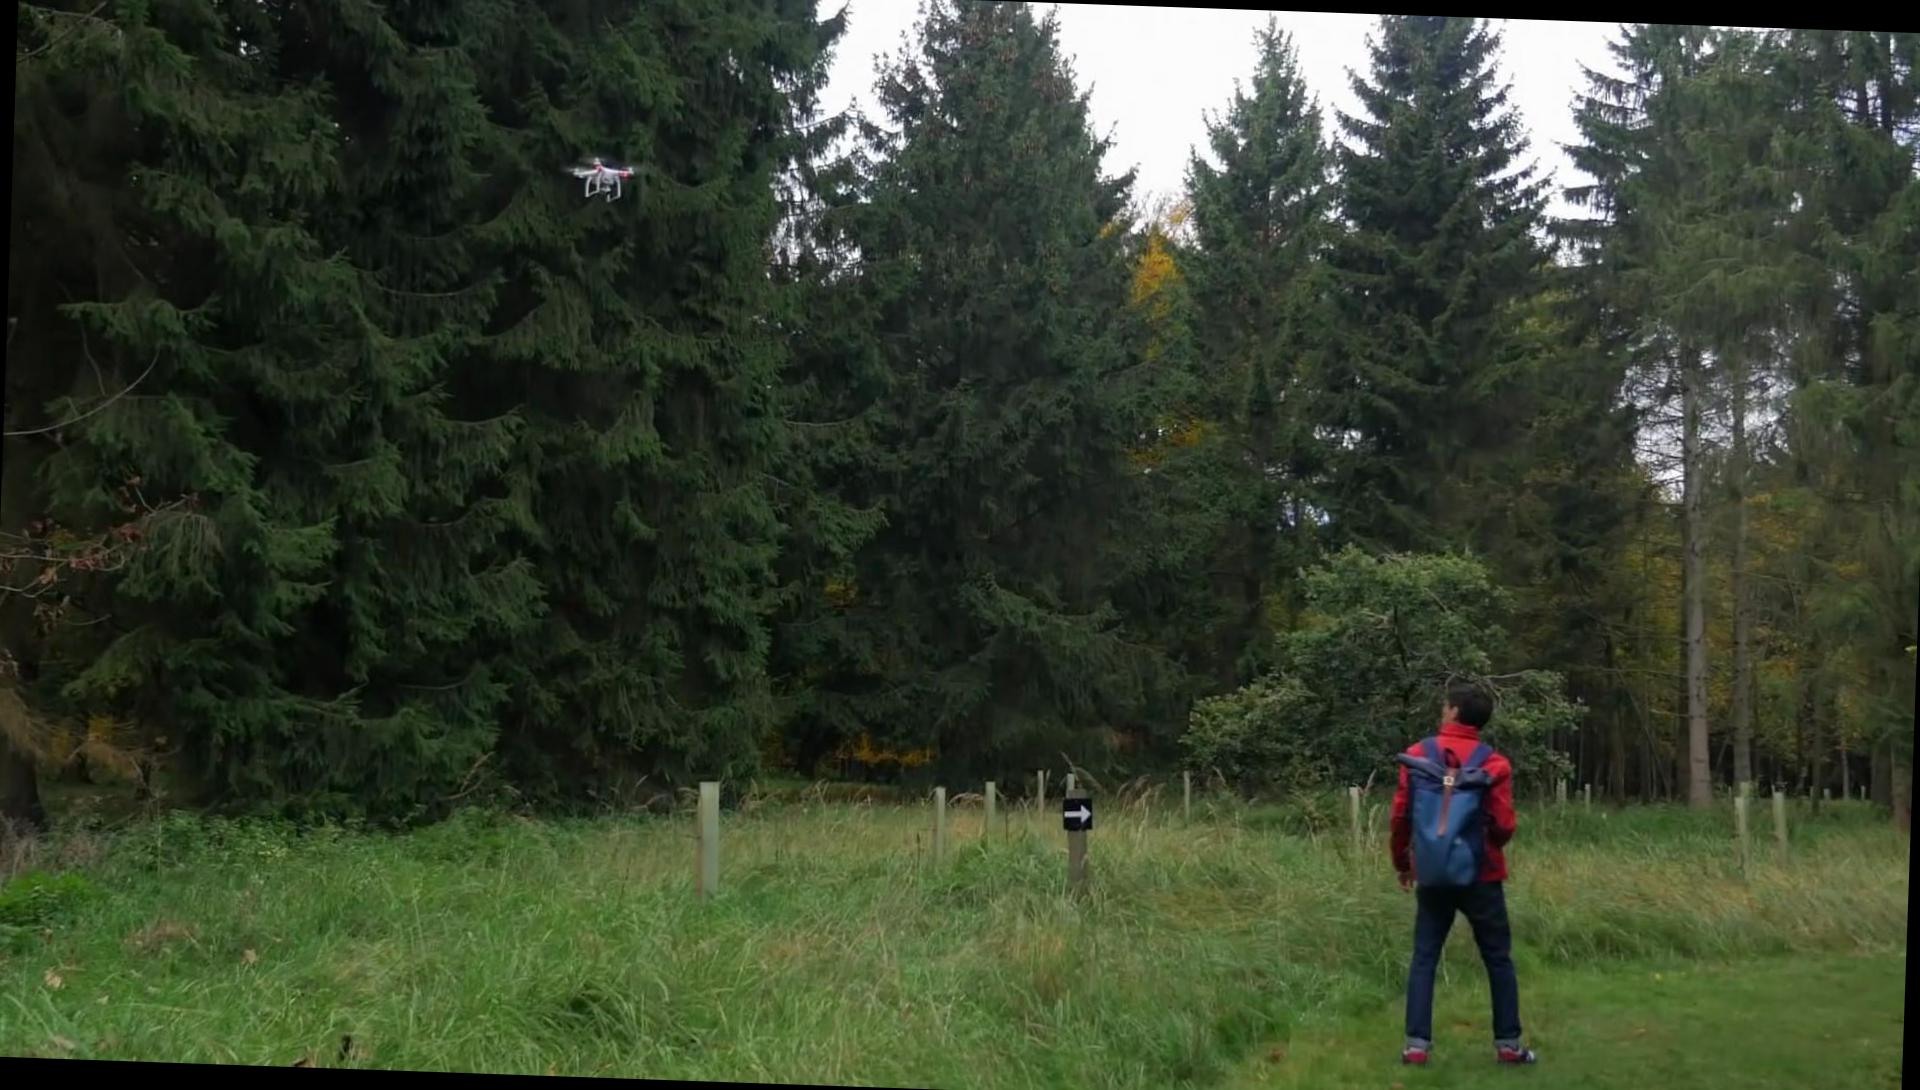drone: (560, 146, 637, 204)
